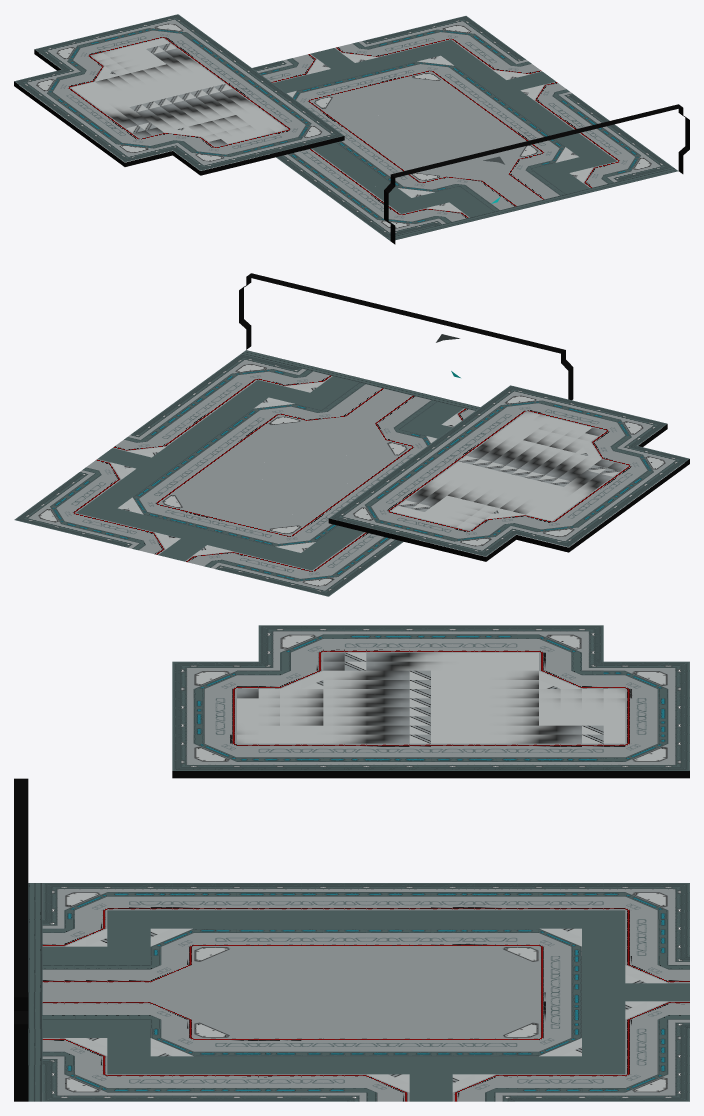
The model's file is Laboratory.fbx.
The picture shows the model from 3 angles, top to bottom: view 1: azimuth 30°, elevation 25°; view 2: azimuth 150°, elevation 25°; view 3: azimuth 270°, elevation 25°; orthographic projection. The views are drawn at different scales.
Parts seen in each view (by area): view 1: SolLabo, SolLabo.001; view 2: SolLabo, SolLabo.001; view 3: SolLabo, SolLabo.001.
Boxes of the visible parts, x1,y1,x2,y2 form: SolLabo: [252, 16, 689, 244]; SolLabo.001: [14, 14, 344, 175]; SolLabo: [14, 273, 573, 596]; SolLabo.001: [328, 385, 689, 561]; SolLabo: [14, 778, 689, 1101]; SolLabo.001: [172, 625, 689, 778].
Bounding box in the file's own units: 3042 × 2350 × 429.
